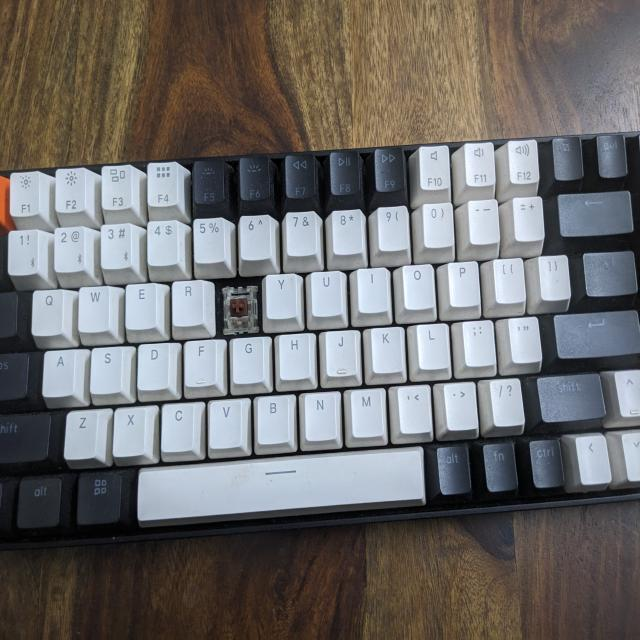key-switch: (219, 282, 258, 333)
